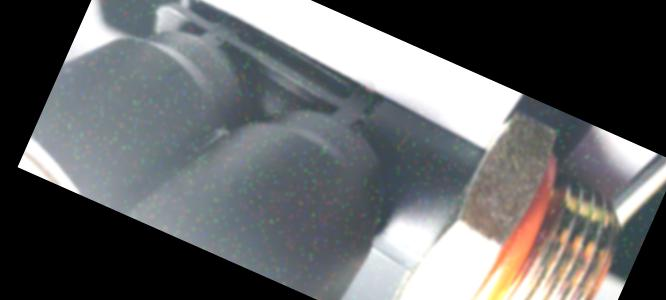joint line: (374, 225, 410, 251)
white mark: (404, 247, 424, 267)
